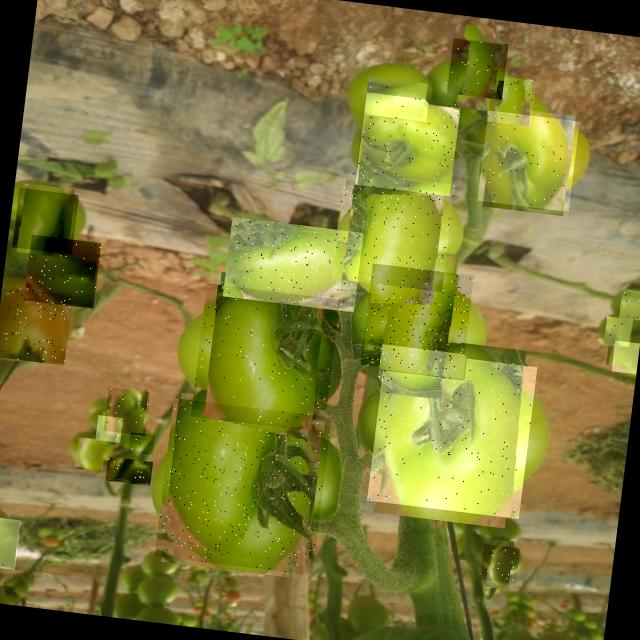Unripe Tomato: (154, 398, 331, 575), (363, 344, 537, 518), (190, 283, 340, 432), (331, 166, 455, 292), (222, 216, 363, 312), (359, 263, 474, 377), (352, 92, 459, 195), (477, 110, 579, 212), (23, 234, 101, 308), (0, 286, 72, 365), (12, 188, 78, 255), (443, 34, 508, 99), (363, 76, 428, 118), (486, 75, 536, 126), (103, 386, 150, 436), (480, 543, 520, 583), (101, 456, 152, 486), (0, 514, 20, 569), (74, 438, 106, 470), (611, 340, 640, 374), (604, 316, 632, 347), (94, 414, 122, 442), (618, 288, 640, 320), (128, 432, 154, 454)
